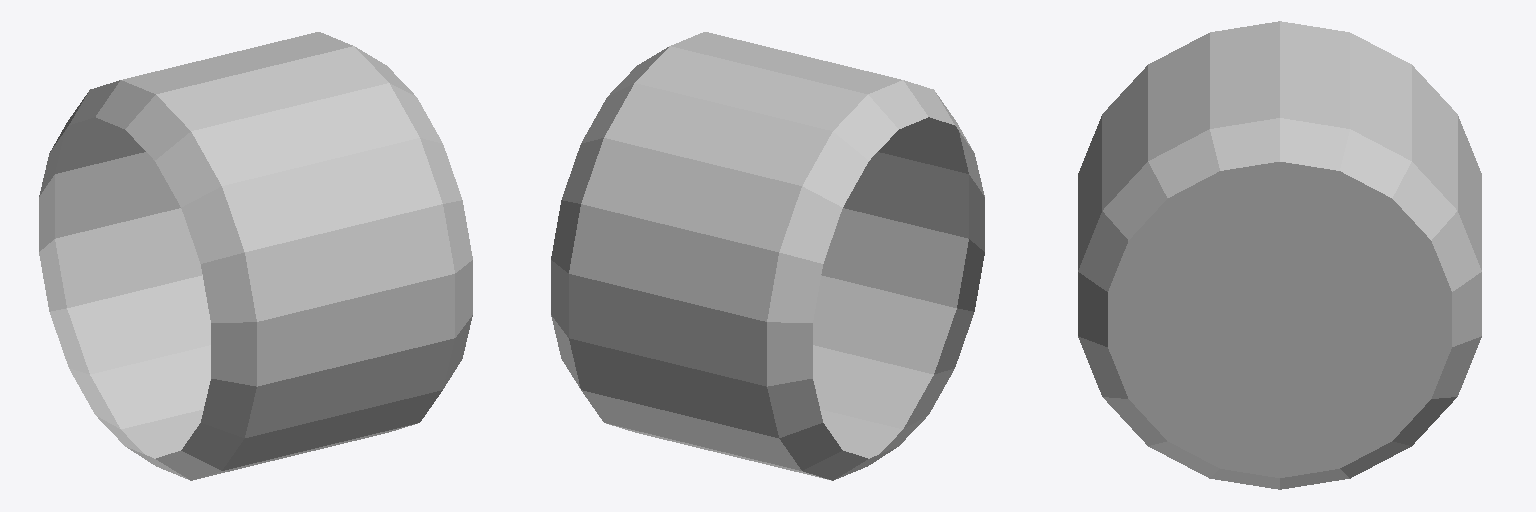
File: Tire front left unwrapped.obj
3 views of the same model, side by side, from view 1: azimuth 30°, elevation 25°; view 2: azimuth 150°, elevation 25°; view 3: azimuth 270°, elevation 25° (orthographic).
Parts seen in each view (by area): view 1: CarWorldTireFrontLeft; view 2: CarWorldTireFrontLeft; view 3: CarWorldTireFrontLeft.
Boxes of the visible parts, x1,y1,x2,y2 form: CarWorldTireFrontLeft: [39, 32, 472, 480]; CarWorldTireFrontLeft: [551, 32, 984, 480]; CarWorldTireFrontLeft: [1078, 21, 1481, 489].
Size of the model in its own units: 25.27 by 34.28 by 33.76.